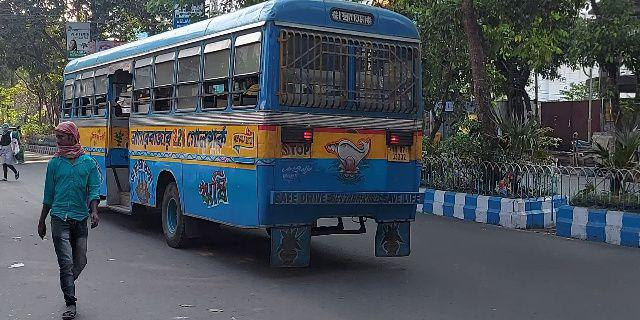Bus: (61, 1, 431, 274)
